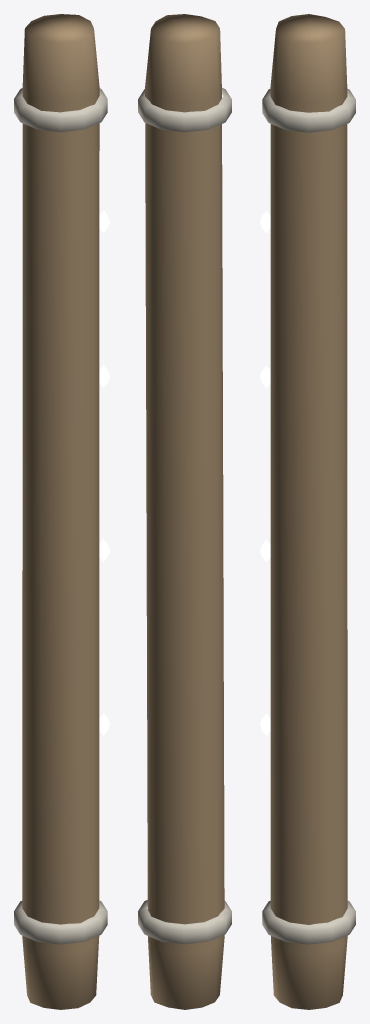
The model's file is exterior_primordial.glb.
3 renders of one model, left to right at view 1: azimuth 90°, elevation 25°; view 2: azimuth 150°, elevation 25°; view 3: azimuth 270°, elevation 25°, orthographic.
Visible parts, largest first — view 1: exterior_primordial; view 2: exterior_primordial; view 3: exterior_primordial.
Boxes of the visible parts, bbox=[...] form: exterior_primordial: bbox=[14, 14, 109, 1009]; exterior_primordial: bbox=[138, 14, 231, 1009]; exterior_primordial: bbox=[260, 14, 355, 1009].
Size of the model in its own units: 0.0878 by 1 by 0.0899.
